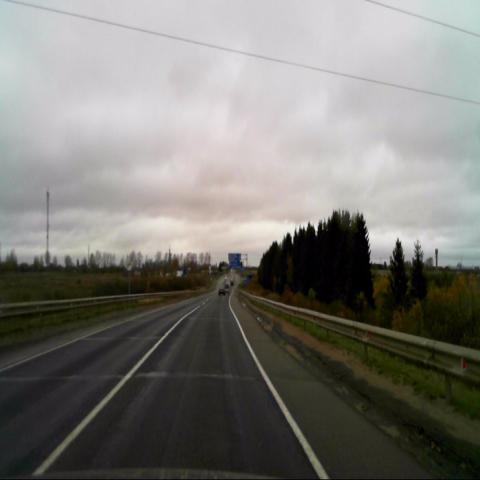3_21: (125, 255, 134, 270)
